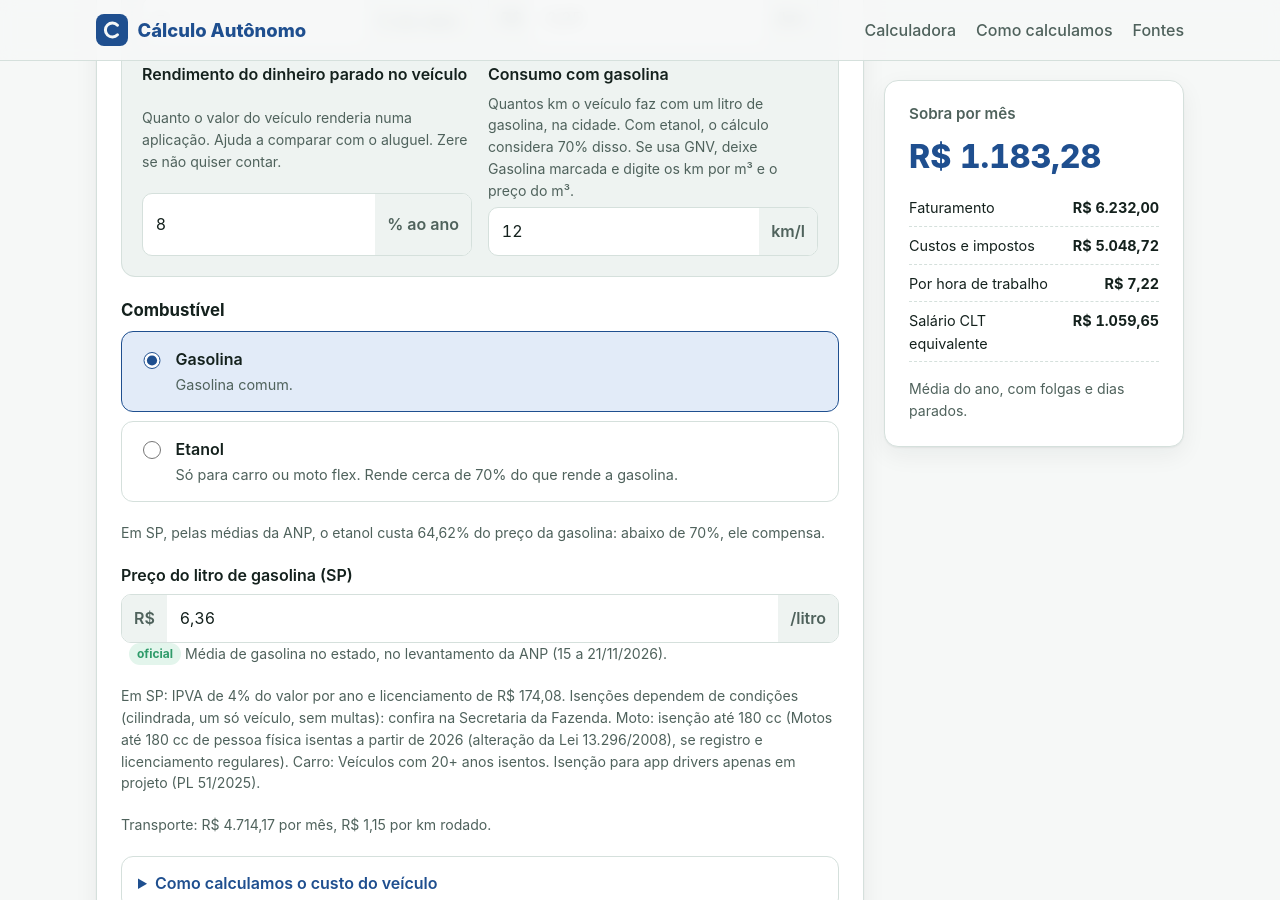
Test: Autonomous work page › choosing ethanol shows its state price and whether it pays off
(page scrolled)
Click the 2nd radio button. click: x=152, y=450
box: [143, 442, 161, 459]
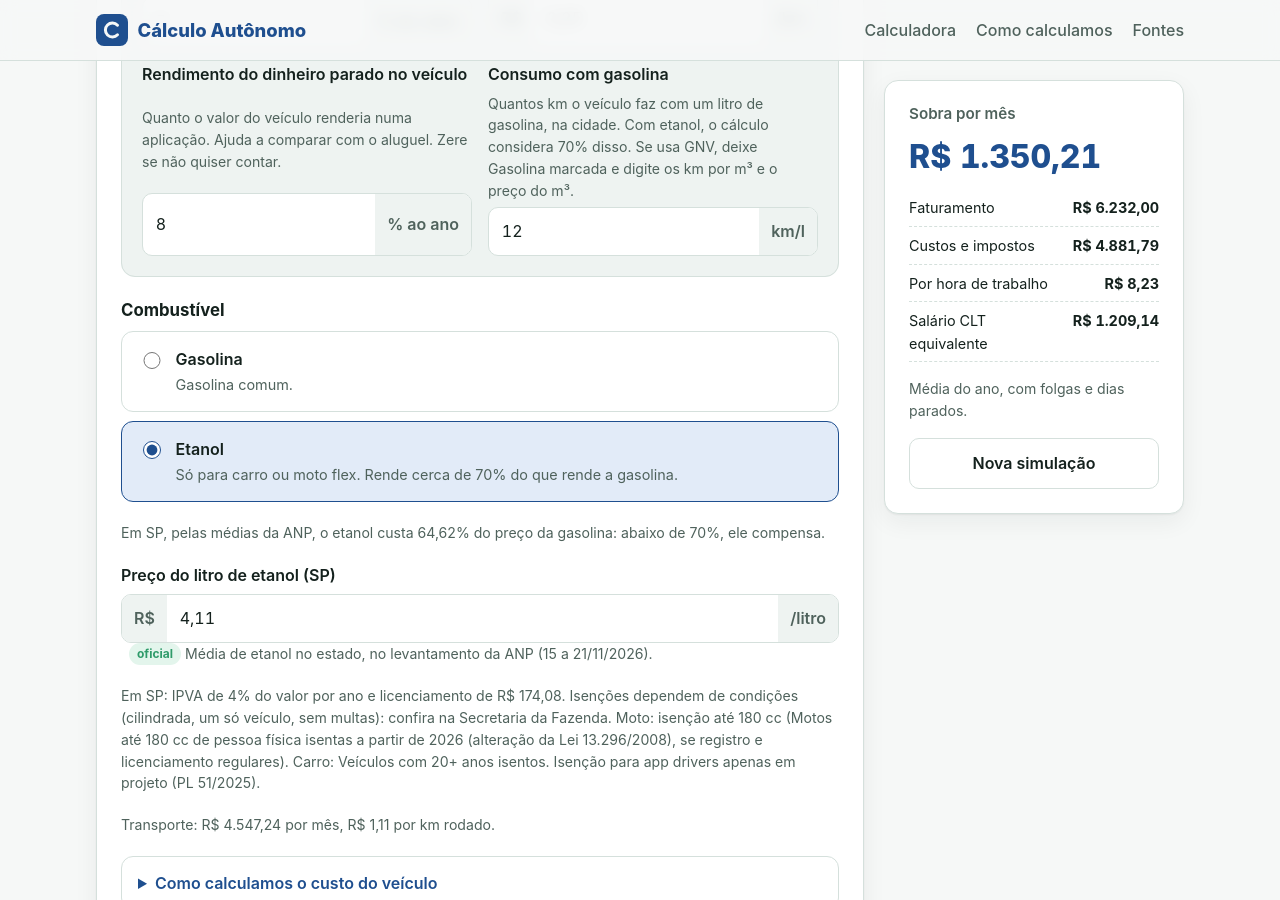
Now the text "Média de etanol no estado" is shown, box [185, 645, 653, 662]
Now the text "Preço do litro de etanol" is shown, box [121, 565, 336, 585]
